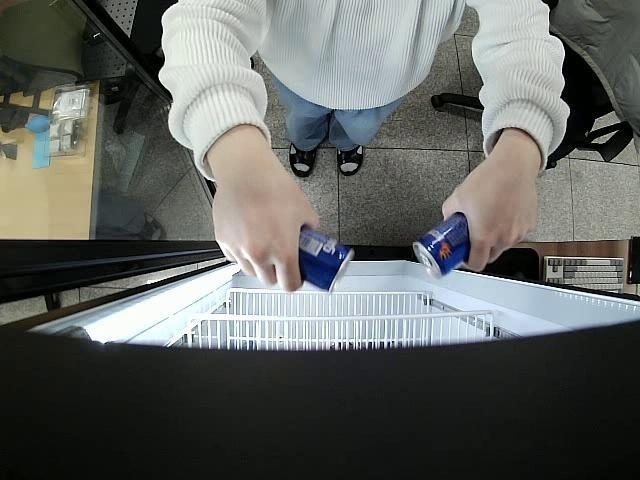16_hot6: (412, 212, 472, 280), (298, 226, 354, 292)
